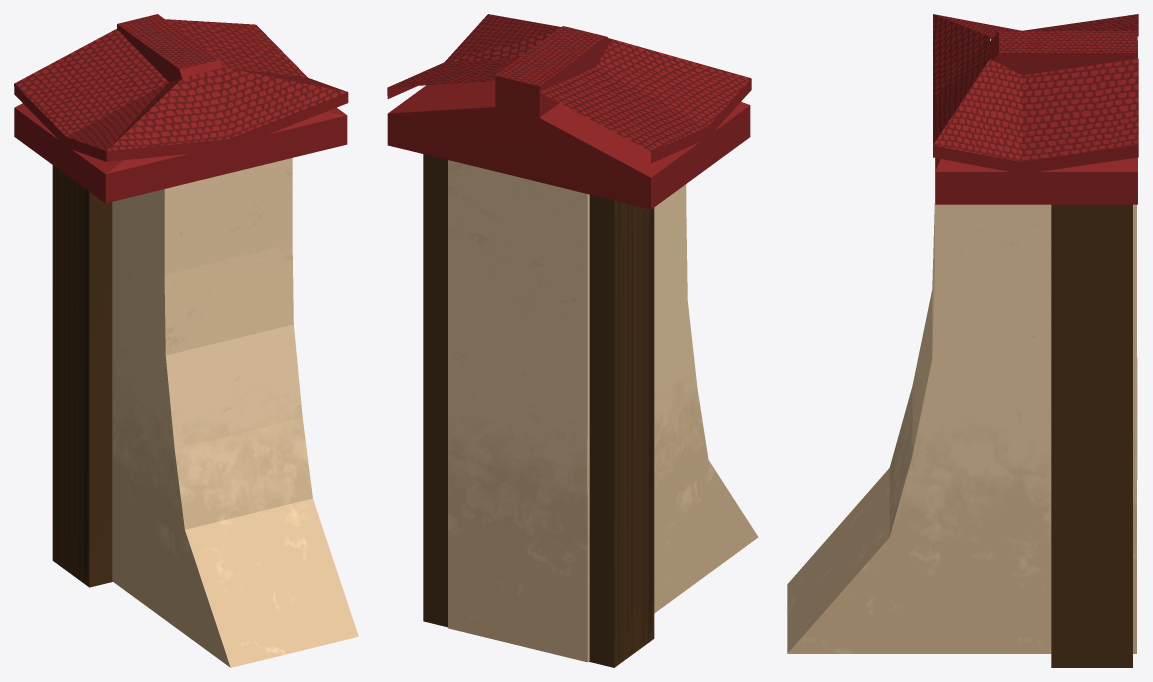
The model's file is WidhEndWall.fbx.
The picture shows the model from 3 angles, left to right: view 1: azimuth 30°, elevation 25°; view 2: azimuth 150°, elevation 25°; view 3: azimuth 270°, elevation 25°; orthographic projection. The views are drawn at different scales.
Parts seen in each view (by area): view 1: WidhEndWall, WallDecPillar008; view 2: WidhEndWall, WallDecPillar008, WallDecPillar009; view 3: WidhEndWall, WallDecPillar009.
Boxes of the visible parts, x1,y1,x2,y2 form: WidhEndWall: (14, 14, 358, 667); WallDecPillar008: (52, 165, 112, 587); WidhEndWall: (387, 14, 758, 662); WallDecPillar008: (589, 194, 654, 667); WallDecPillar009: (423, 154, 447, 627); WidhEndWall: (787, 14, 1138, 653); WallDecPillar009: (1051, 204, 1132, 667).
Size of the model in its own units: 17.26 by 35.38 by 19.48.
2 materials, 2 textured.
